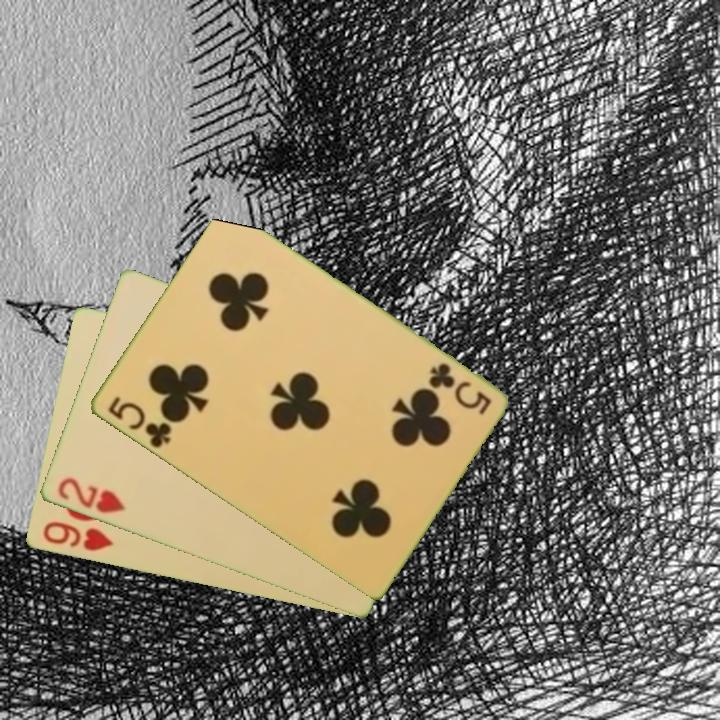2h: (53, 474, 128, 517)
5c: (103, 392, 174, 452), (424, 359, 494, 418)
9h: (39, 518, 115, 555)
